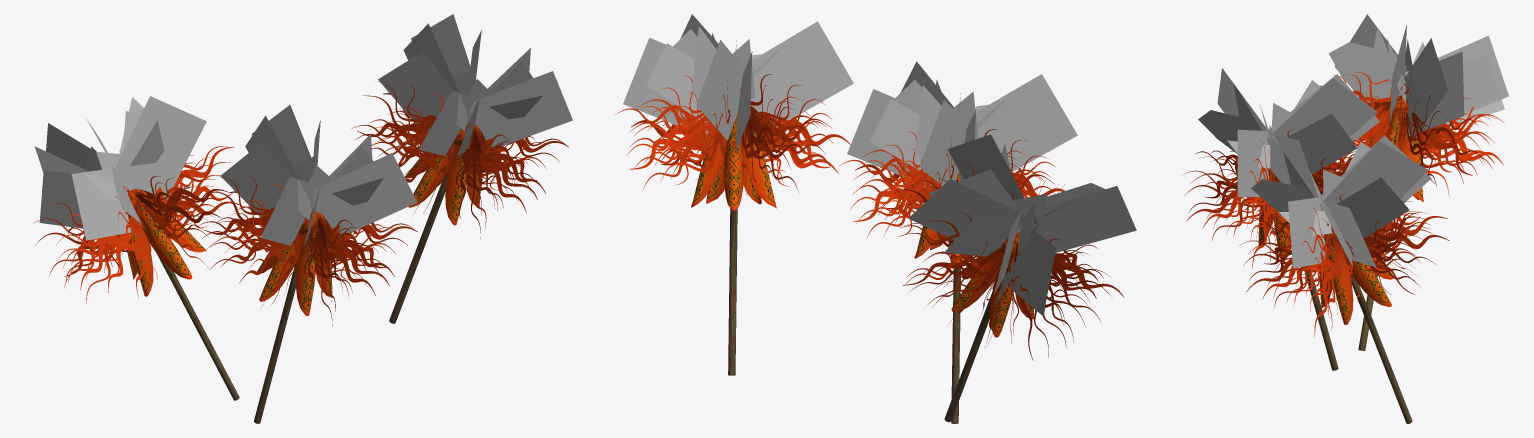
File: umurinziJoined.fbx
3 renders of one model, left to right at view 1: azimuth 30°, elevation 25°; view 2: azimuth 150°, elevation 25°; view 3: azimuth 270°, elevation 25°, orthographic. The views are drawn at different scales.
Parts seen in each view (by area): view 1: umurinzi3; view 2: umurinzi3; view 3: umurinzi3.
Part boxes in pixels (x1,y1,x2,y2): umurinzi3: (33,14,572,423); umurinzi3: (615,14,1136,423); umurinzi3: (1183,14,1508,423).
Size of the model in its own units: 36.19 by 23.08 by 22.19.
Materials: 2 (1 with a texture image).
